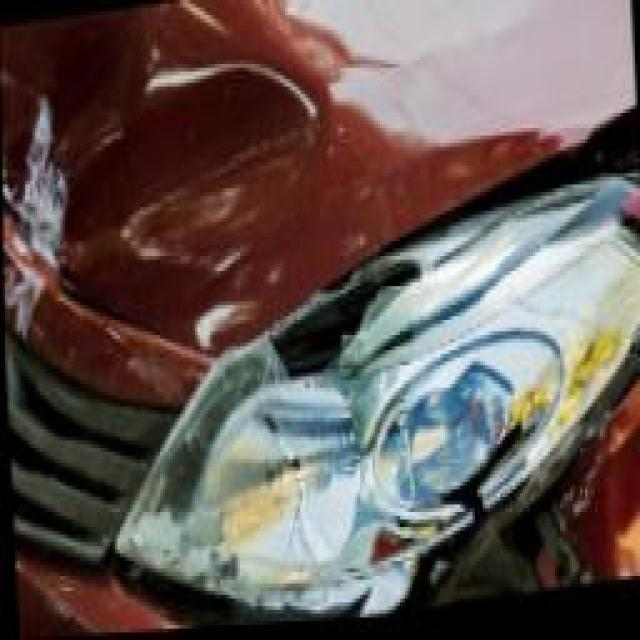Bonnet: (0, 0, 630, 328)
Light: (113, 156, 640, 600)
